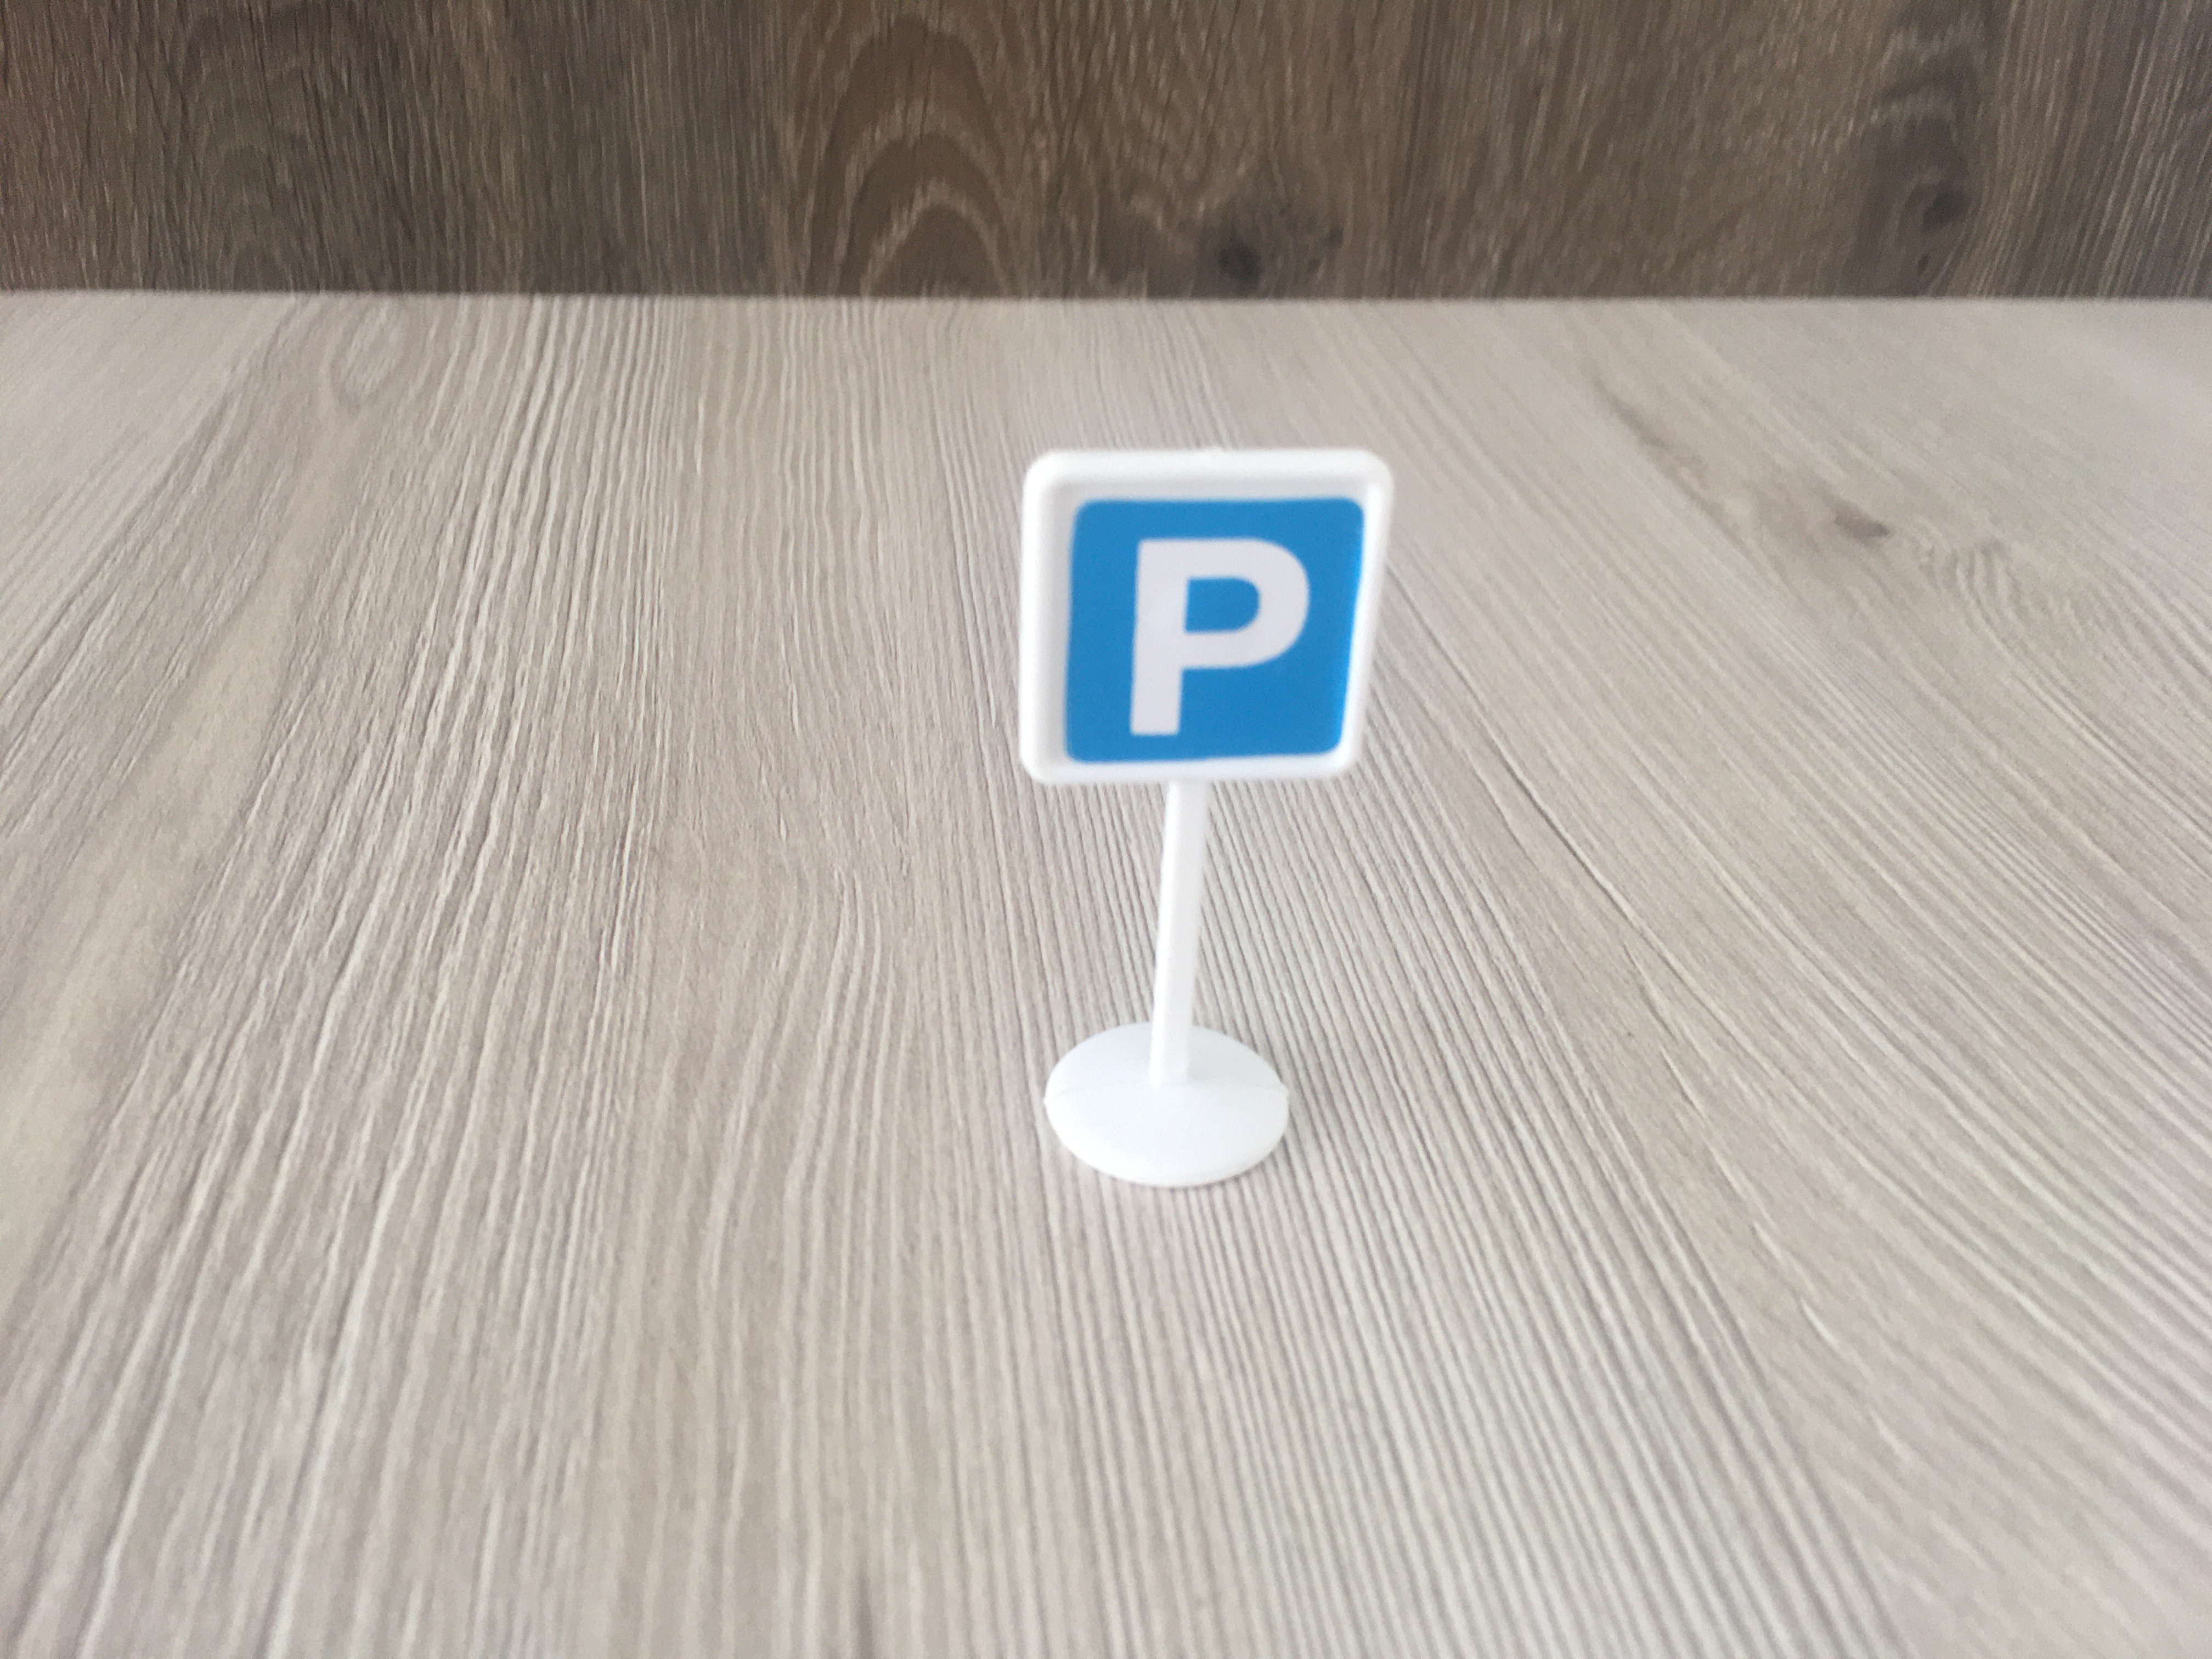parking: (1019, 460, 1372, 781)
